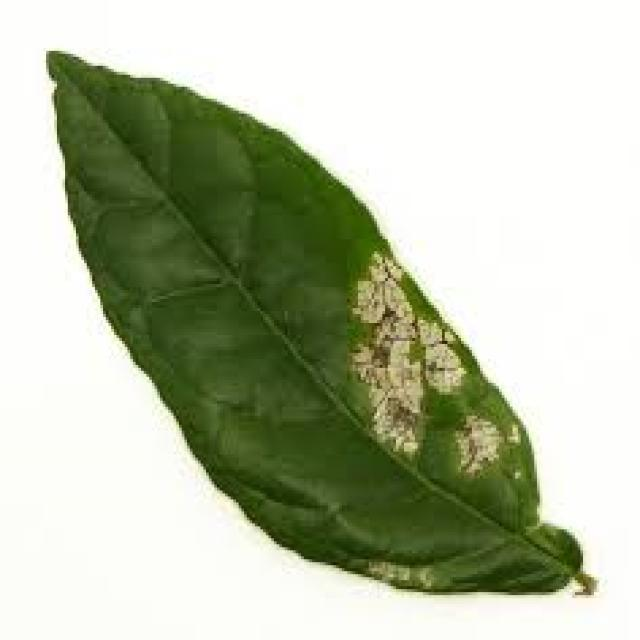leaf: (45, 48, 597, 596)
